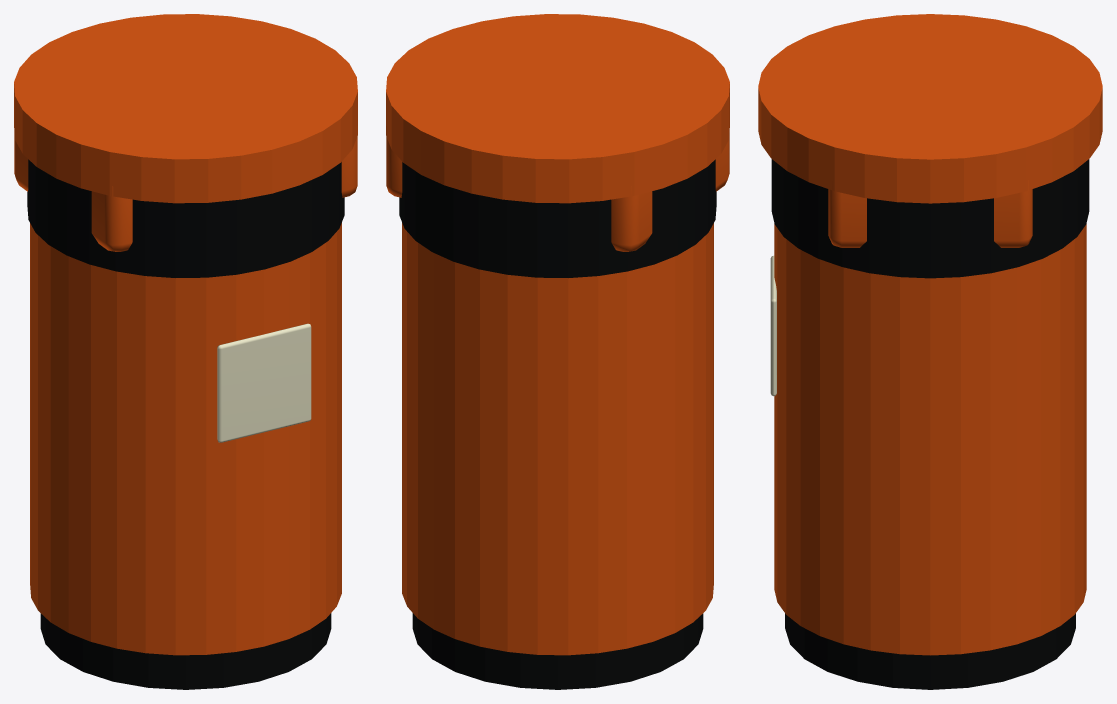
File: bin.glb
3 views of the same model, side by side, from view 1: azimuth 30°, elevation 25°; view 2: azimuth 150°, elevation 25°; view 3: azimuth 270°, elevation 25° (orthographic).
Parts seen in each view (by area): view 1: bin_Body; view 2: bin_Body; view 3: bin_Body.
Boxes of the visible parts, bbox=[...] form: bin_Body: bbox=[14, 14, 357, 689]; bin_Body: bbox=[386, 14, 729, 689]; bin_Body: bbox=[758, 14, 1102, 689].
Bounding box in the file's own units: 0.64 × 1.11 × 0.64.
